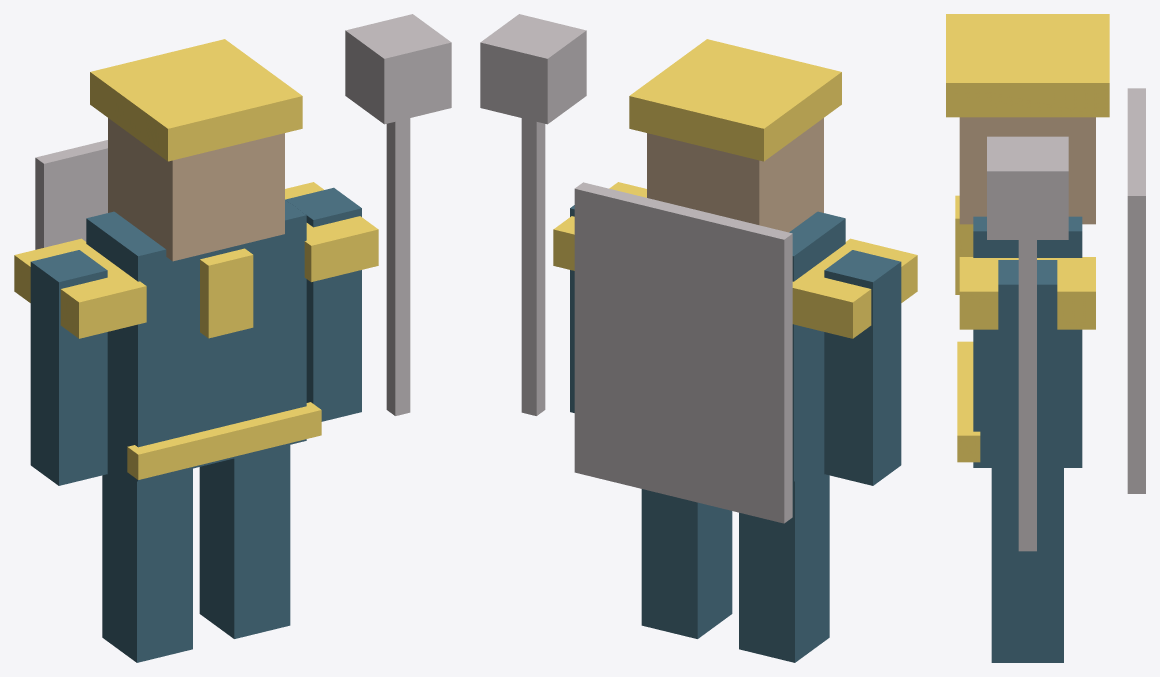
The model's file is 14_brant_brightlock_guide_near_tideglass.glb.
3 views of the same model, side by side, from view 1: azimuth 30°, elevation 25°; view 2: azimuth 150°, elevation 25°; view 3: azimuth 270°, elevation 25° (orthographic). The views are drawn at different scales.
Visible parts, largest first — view 1: Brant Brightlock, Guide near Tideglass; view 2: Brant Brightlock, Guide near Tideglass; view 3: Brant Brightlock, Guide near Tideglass.
Boxes of the visible parts, <box> form: Brant Brightlock, Guide near Tideglass: <box>14,14,451,662</box>; Brant Brightlock, Guide near Tideglass: <box>480,14,917,662</box>; Brant Brightlock, Guide near Tideglass: <box>946,14,1145,662</box>.
Size of the model in its own units: 1.09 by 1.47 by 0.4617.
